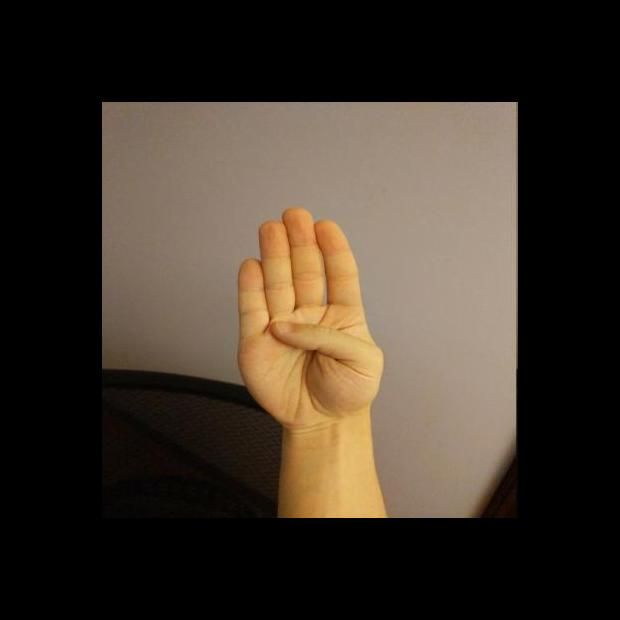A: (231, 203, 391, 433)
